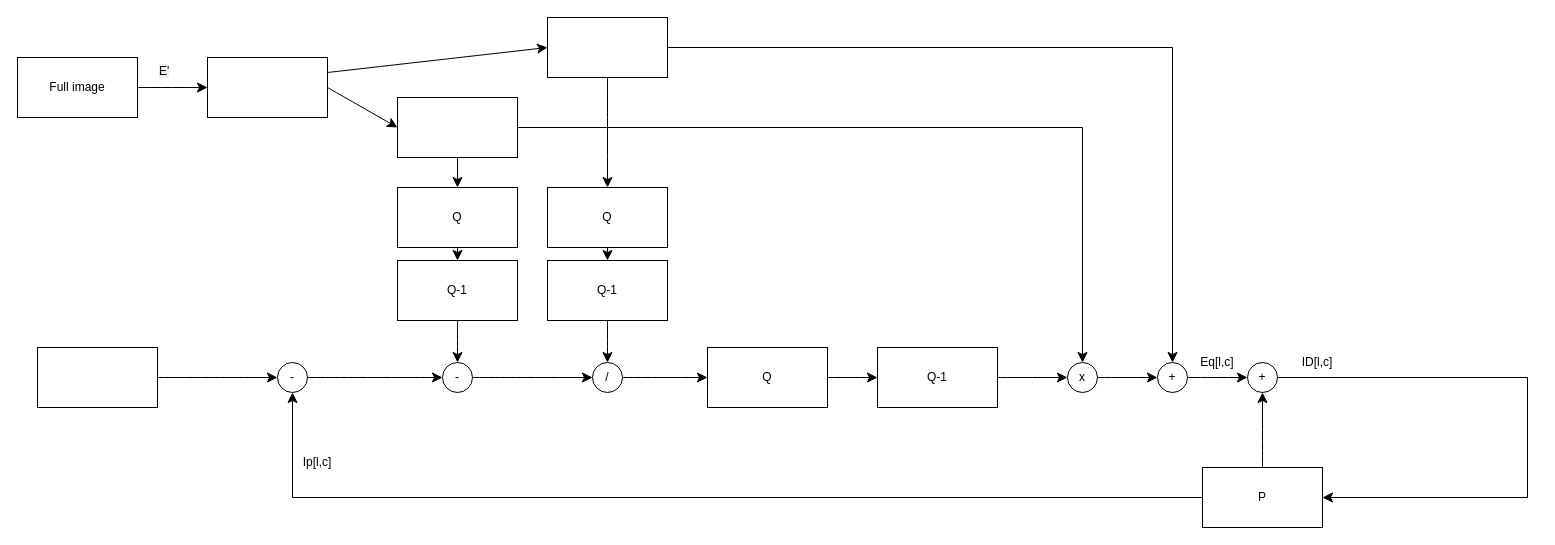
This 1555x545 diagram has some shape labels left out. The shapes that lost their labels are listed below. From the top down, each one's centre as x and y in pixels, then its label:
point (607, 47): Error variance
point (267, 87): Calculate Error
point (457, 127): Error mean
point (97, 377): Pixel error[l,c]
